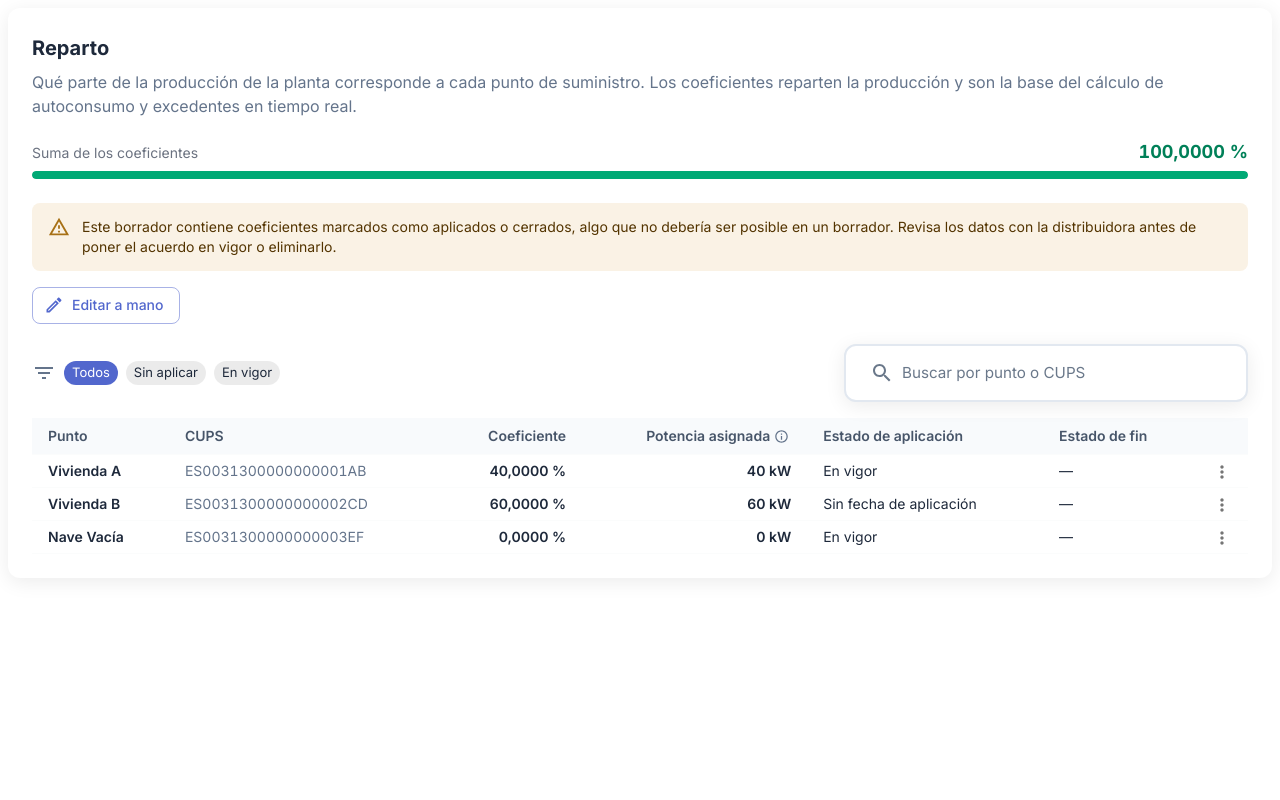
Scenario: SharingAgreementCoefficientSet (DRAFT editing) › UI-AGR-001 removing a supply updates the live sum before anything is saved
The width and height of the screenshot is (1280, 800).
Click the button "Editar a mano" at (106, 305), box top-left (32, 287), bottom-right (180, 324)
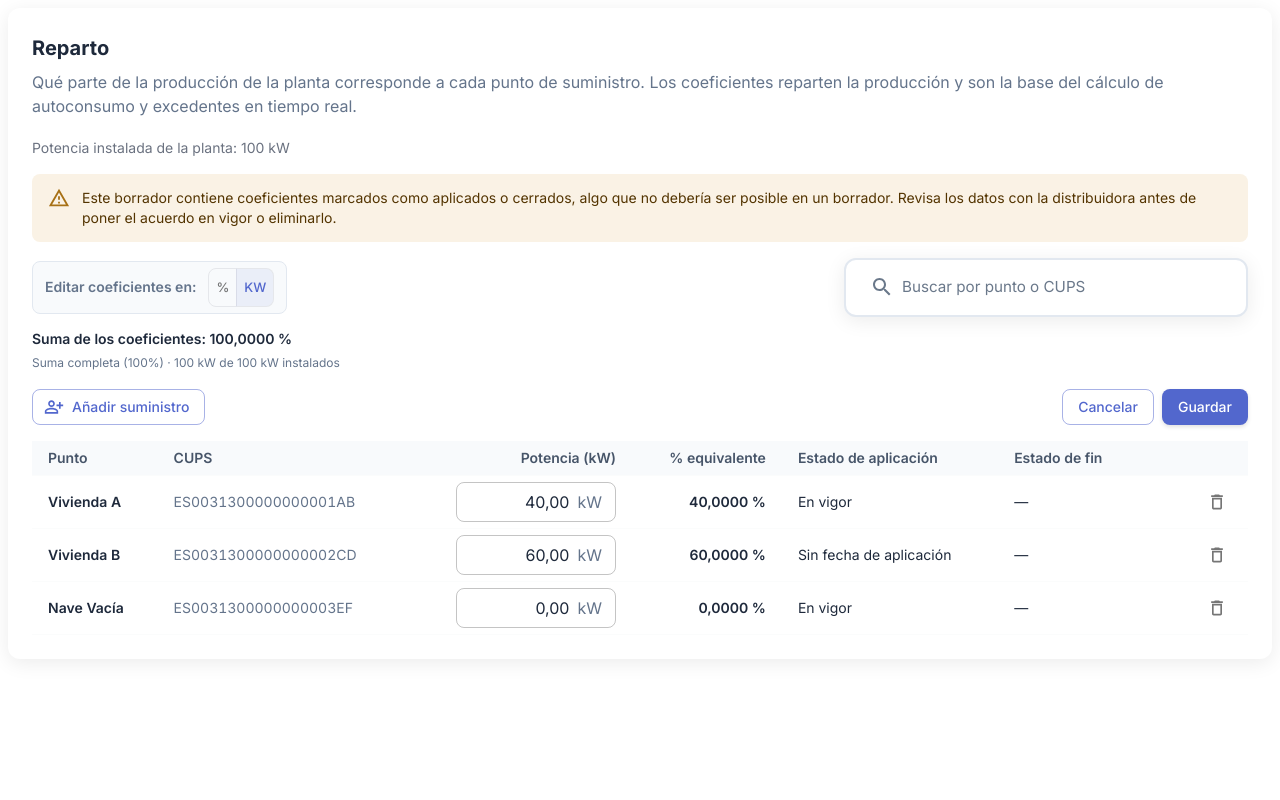
expect the text "Suma de los coeficientes: 100,0000 %" is shown: met, box top-left (32, 330), bottom-right (292, 347)
Click the button named "Quitar Vivienda A" at (1217, 502), box top-left (1202, 487), bottom-right (1232, 517)
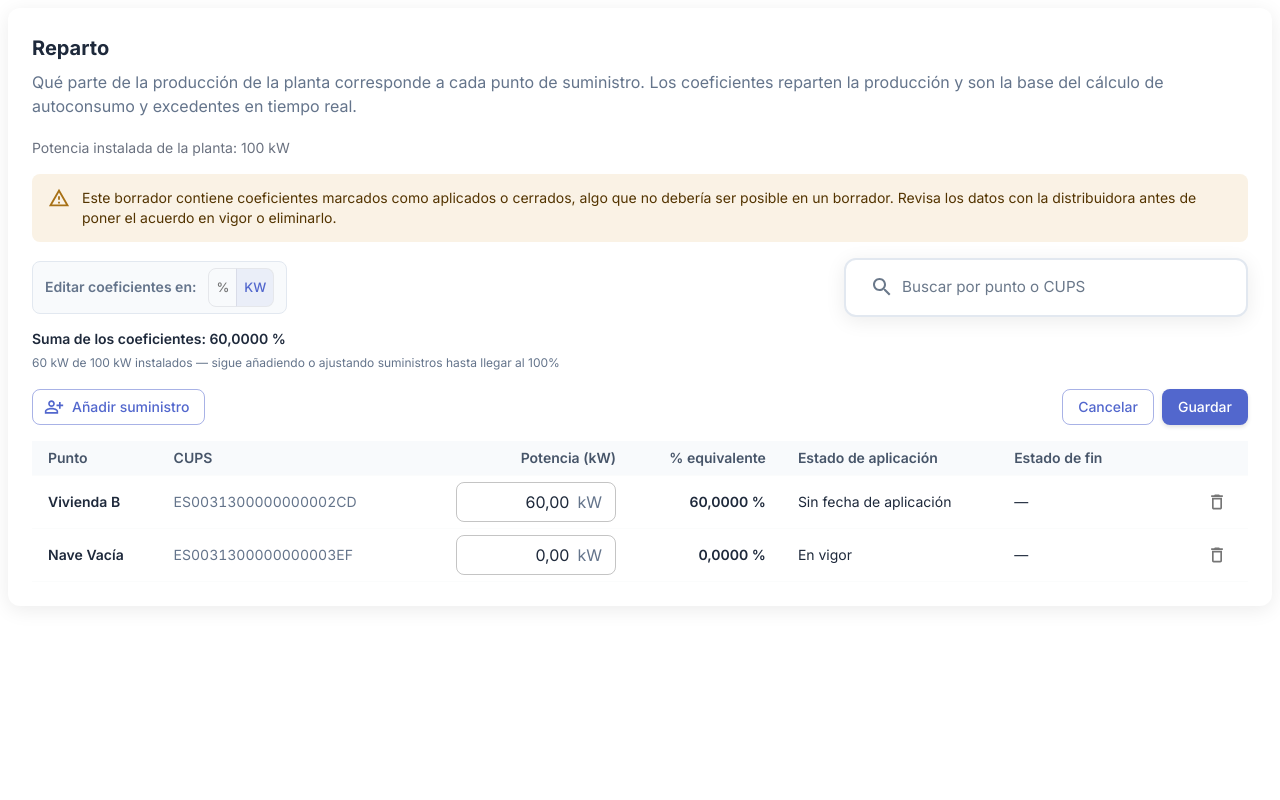
expect the text "Suma de los coeficientes: 60,0000 %" is shown: met, box top-left (32, 330), bottom-right (286, 347)
